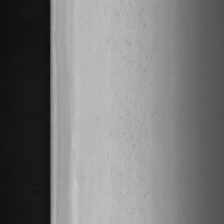silk_spot: (98, 0, 162, 209)
